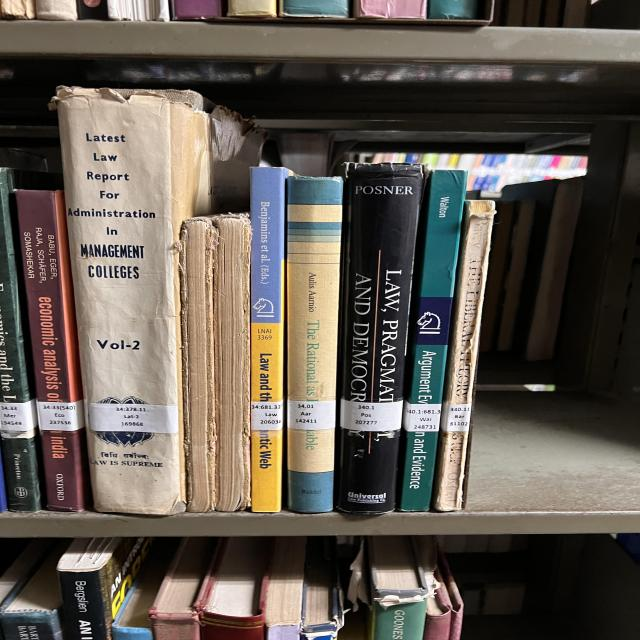Book: (52, 86, 208, 515), (398, 170, 467, 511), (15, 190, 88, 511), (0, 168, 62, 512), (433, 200, 495, 511), (287, 176, 343, 512), (250, 168, 290, 512), (180, 216, 217, 512), (57, 538, 152, 640), (193, 538, 273, 640), (367, 536, 430, 640), (0, 608, 63, 640)
Label: (88, 402, 178, 434), (340, 399, 403, 431), (37, 400, 85, 431), (287, 400, 335, 430), (403, 401, 442, 431), (0, 400, 37, 431), (252, 401, 283, 430), (440, 404, 472, 431)
